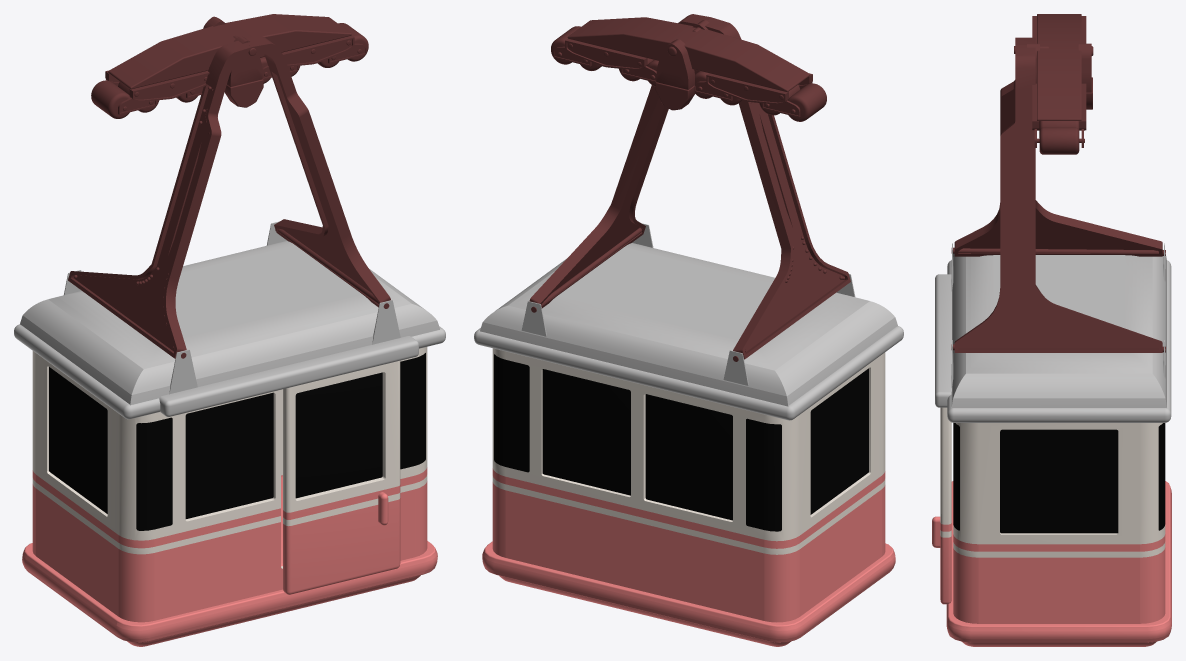
The picture shows the model from 3 angles, left to right: view 1: azimuth 30°, elevation 25°; view 2: azimuth 150°, elevation 25°; view 3: azimuth 270°, elevation 25°; orthographic projection. The views are drawn at different scales.
Visible parts, largest first — view 1: base_3, Cube_4_3, barre_2, Cube_3_3, Cube_4, Cube_Mat_0, Cube_2_2, Cube_3, base_2, Cube_6_2, Cube_Mat.1_0, Cube_2 (+10 smaller); view 2: base_3, Cube_4_3, barre_2, Cube_4_5, Cube_5_2, Cube_2_2, base_2, Cube_3, Cube_4_4, Cube_6_2, Cube_7, Cylindre_4 (+7 smaller); view 3: base_3, Cube_4_3, barre_2, Cube_7_2, Cube_2_2, Cube_3, Cube_4_4, Cube_2, base_2, Cube_Mat.1_0, Cylindre_4, bas_cabine (+4 smaller).
Part boxes in pixels (x1,y1,x2,y2): base_3: (32, 347, 427, 622); Cube_4_3: (20, 240, 439, 405); barre_2: (68, 36, 390, 358); Cube_3_3: (185, 392, 273, 518); Cube_4: (295, 372, 382, 498); Cube_Mat_0: (283, 485, 400, 594); Cube_2_2: (22, 541, 437, 642); Cube_3: (108, 14, 351, 89); base_2: (136, 353, 425, 530); Cube_6_2: (49, 367, 107, 513); Cube_Mat.1_0: (283, 360, 400, 526); Cube_2: (159, 336, 418, 416); base_3: (492, 348, 885, 622); Cube_4_3: (480, 243, 897, 406); barre_2: (529, 14, 850, 359); Cube_4_5: (542, 369, 630, 495); Cube_5_2: (645, 394, 732, 520); Cube_2_2: (482, 541, 895, 642); base_2: (494, 354, 781, 531); Cube_3: (567, 17, 810, 92); Cube_4_4: (474, 326, 903, 420); Cube_6_2: (810, 368, 868, 514); Cube_7: (565, 38, 812, 104); Cylindre_4: (551, 26, 826, 121); base_3: (953, 423, 1165, 623); Cube_4_3: (951, 249, 1166, 407); barre_2: (954, 37, 1162, 352); Cube_7_2: (1000, 429, 1118, 533); Cube_2_2: (946, 481, 1171, 642); Cube_3: (1037, 14, 1081, 120); Cube_4_4: (947, 260, 1171, 422); Cube_2: (935, 274, 951, 407); base_2: (953, 423, 1165, 530); Cube_Mat.1_0: (940, 407, 951, 537); Cylindre_4: (1039, 127, 1079, 154); bas_cabine: (962, 641, 1156, 646).
Bounding box in the file's own units: 3.42 × 5.63 × 2.26.
